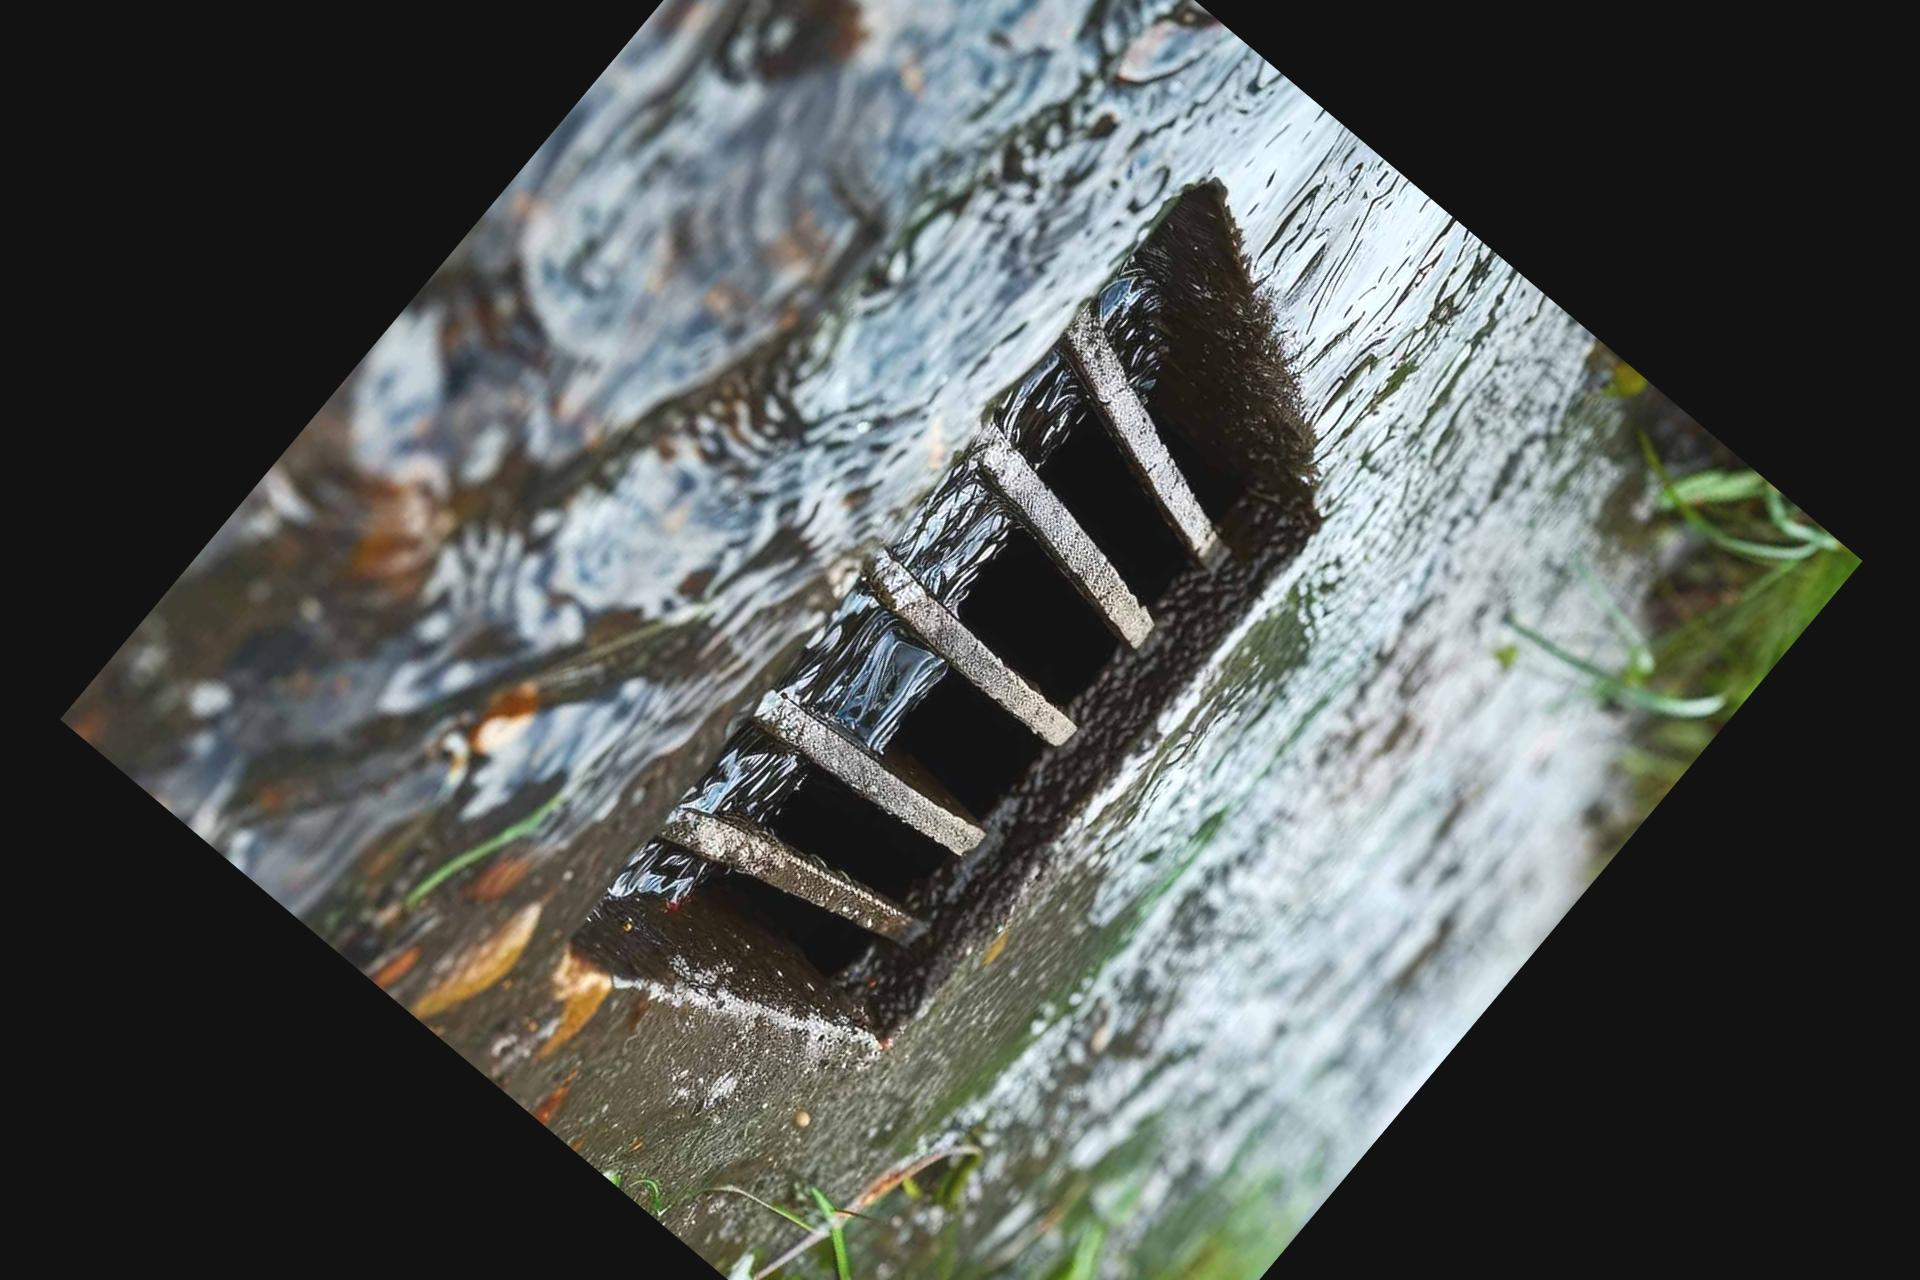Blocked drain: (131, 0, 1797, 1280)
